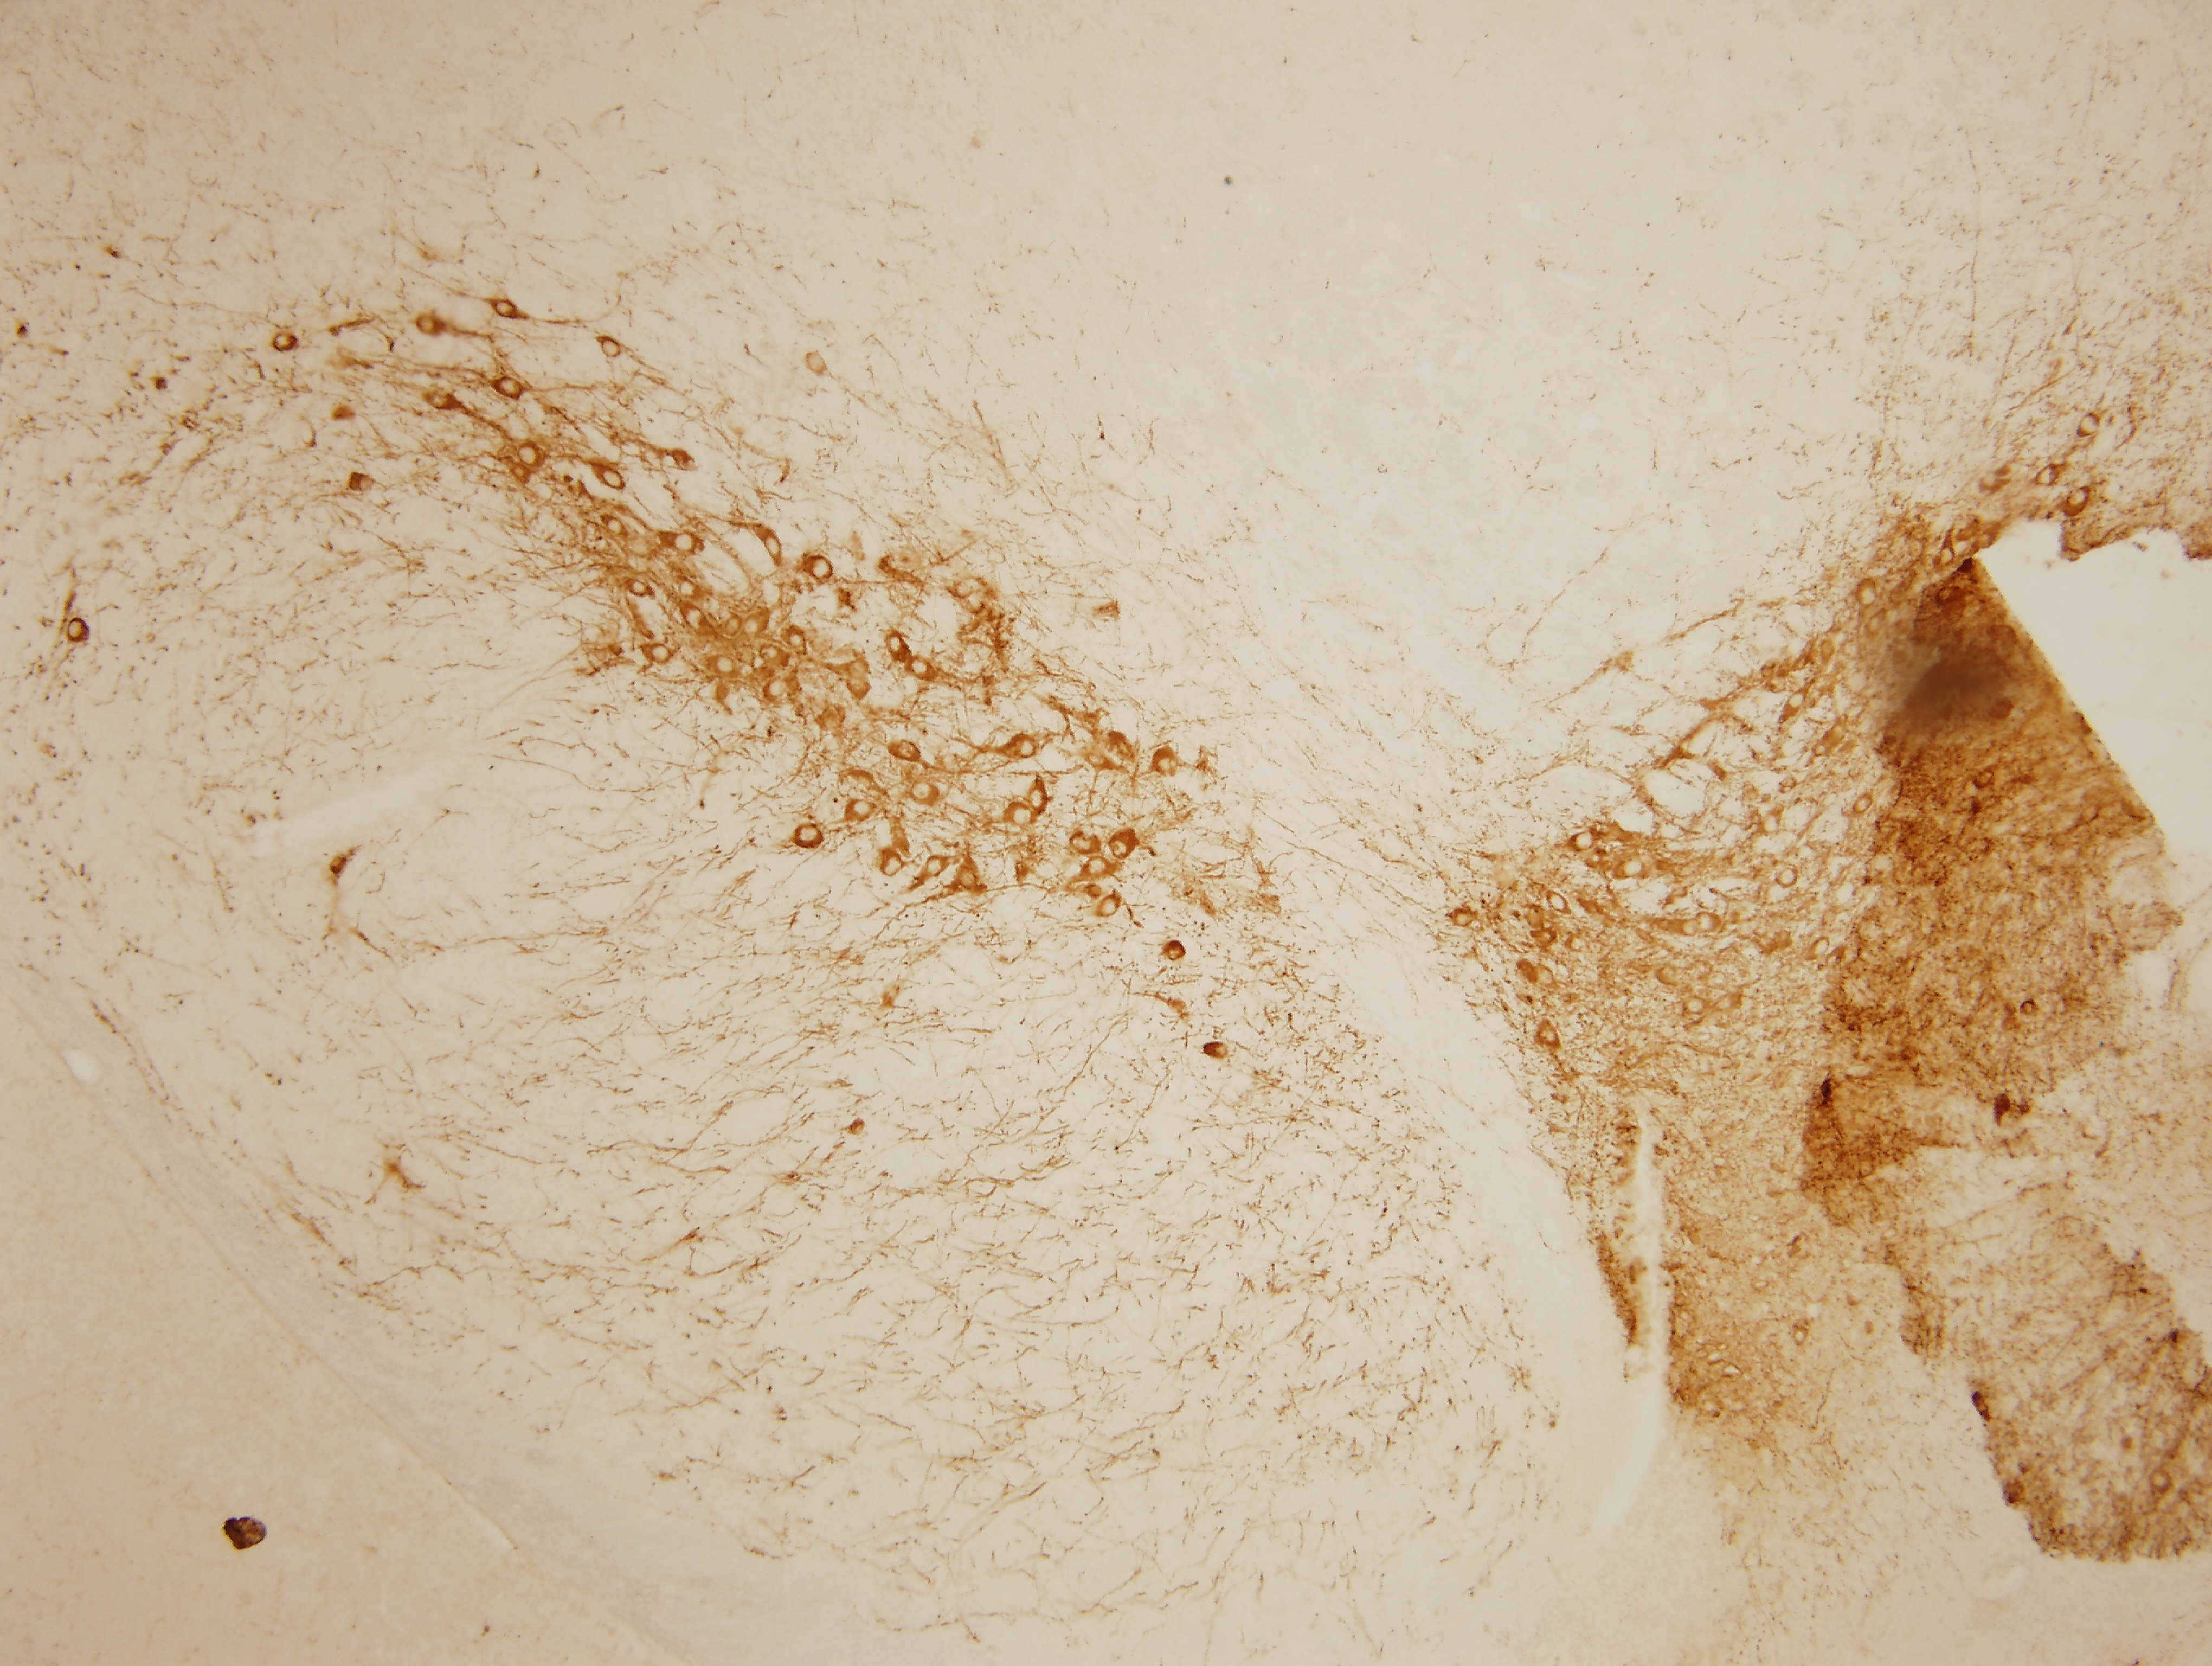neuron: (874, 851, 908, 884), (1850, 579, 1883, 613), (757, 532, 789, 565), (794, 821, 825, 854), (2030, 457, 2062, 490), (2063, 485, 2095, 518), (2072, 410, 2105, 441), (596, 336, 623, 362), (602, 513, 628, 539), (626, 576, 652, 602), (647, 641, 673, 667), (65, 618, 91, 644), (671, 530, 698, 556), (675, 576, 701, 602), (682, 606, 708, 632), (713, 651, 740, 677), (741, 613, 768, 639), (755, 641, 782, 667), (762, 674, 789, 700), (785, 628, 811, 655), (803, 350, 829, 376), (810, 556, 836, 583), (850, 798, 876, 824), (883, 632, 909, 658), (908, 655, 934, 681), (909, 781, 936, 807), (922, 856, 948, 882), (1007, 803, 1033, 830), (1012, 735, 1039, 761), (1026, 786, 1053, 812), (1068, 831, 1095, 858), (1086, 854, 1112, 880), (1107, 836, 1133, 863), (1152, 753, 1179, 779), (1163, 940, 1189, 966), (1546, 889, 1572, 915), (1570, 828, 1596, 854), (1617, 856, 1644, 882), (1675, 915, 1701, 941), (1682, 994, 1708, 1020), (1784, 688, 1810, 714), (1808, 737, 1834, 763), (1852, 791, 1878, 817), (271, 331, 297, 357), (497, 375, 523, 401), (516, 443, 542, 469), (602, 467, 626, 494), (1096, 894, 1121, 921), (1451, 905, 1478, 929), (1775, 866, 1801, 891), (1806, 936, 1833, 961), (491, 296, 518, 320), (958, 870, 977, 889), (1212, 1041, 1231, 1061), (1696, 912, 1715, 931), (1791, 1328, 1810, 1348)
